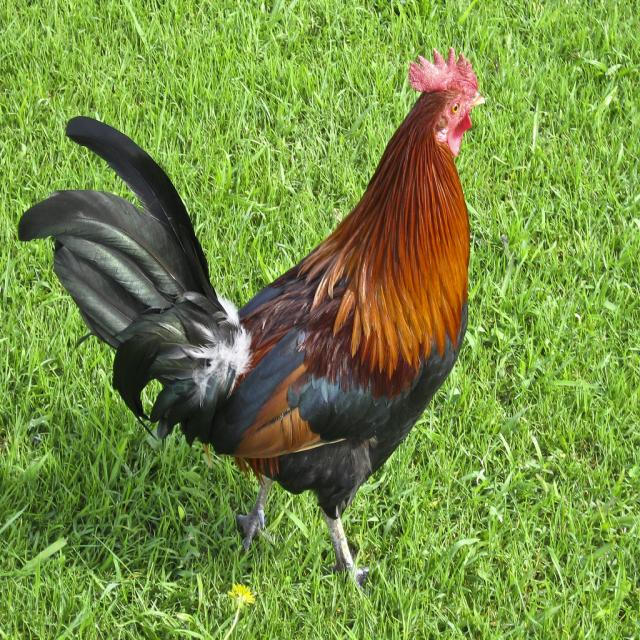Chicken: (18, 47, 486, 584)
